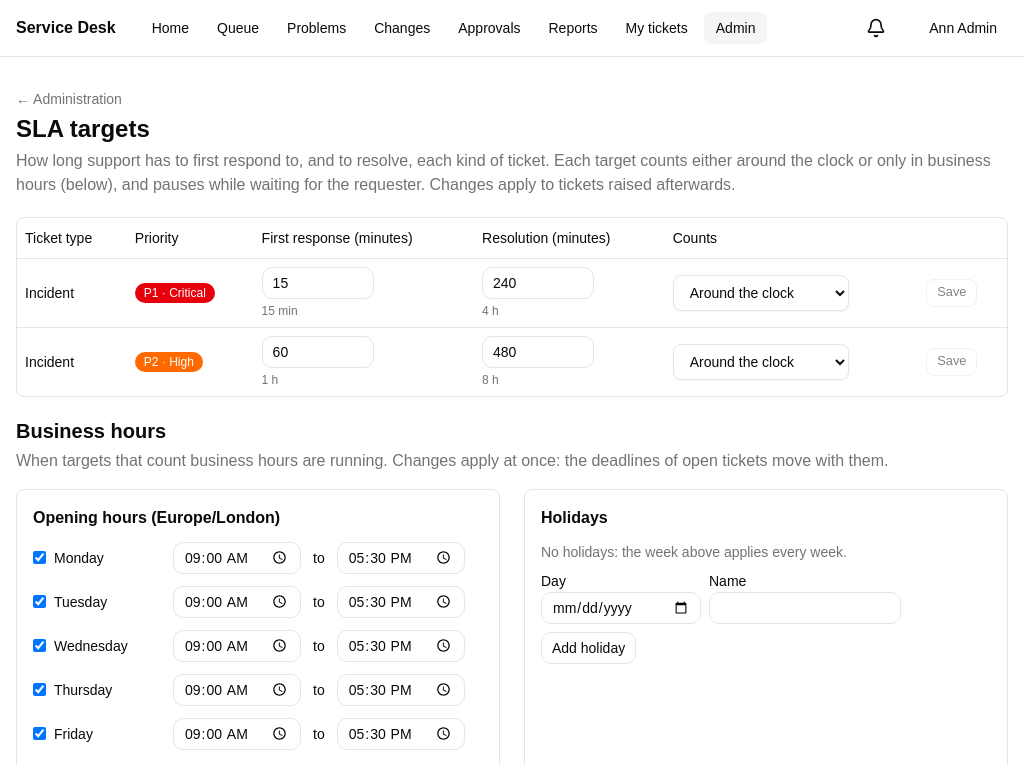
Test: SLA targets page › lists targets with readable durations and saves a change
This screenshot has width=1024, height=764.
Expected: the text "4 h" is shown, [482,304,499,318]
Clear the number field named "Incident P2 first response, in minutes" at {"x": 318, "y": 352}, box [262,336,374,368]
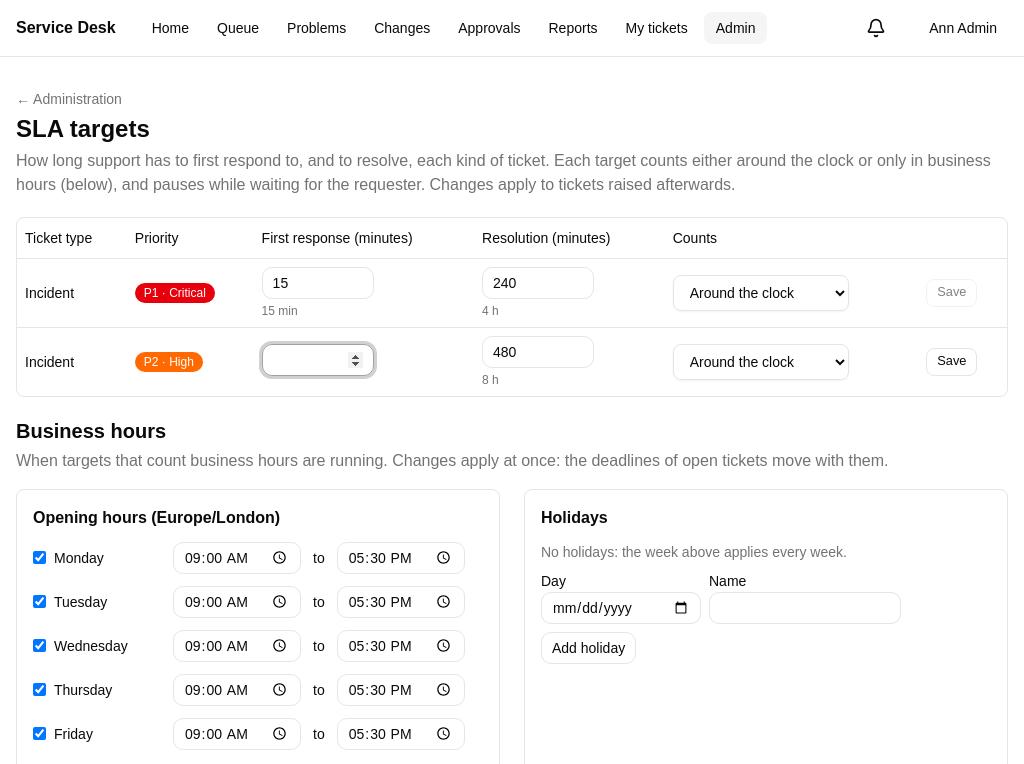
Type "30" into the number field named "Incident P2 first response, in minutes" at {"x": 318, "y": 360}, box [262,344,374,376]
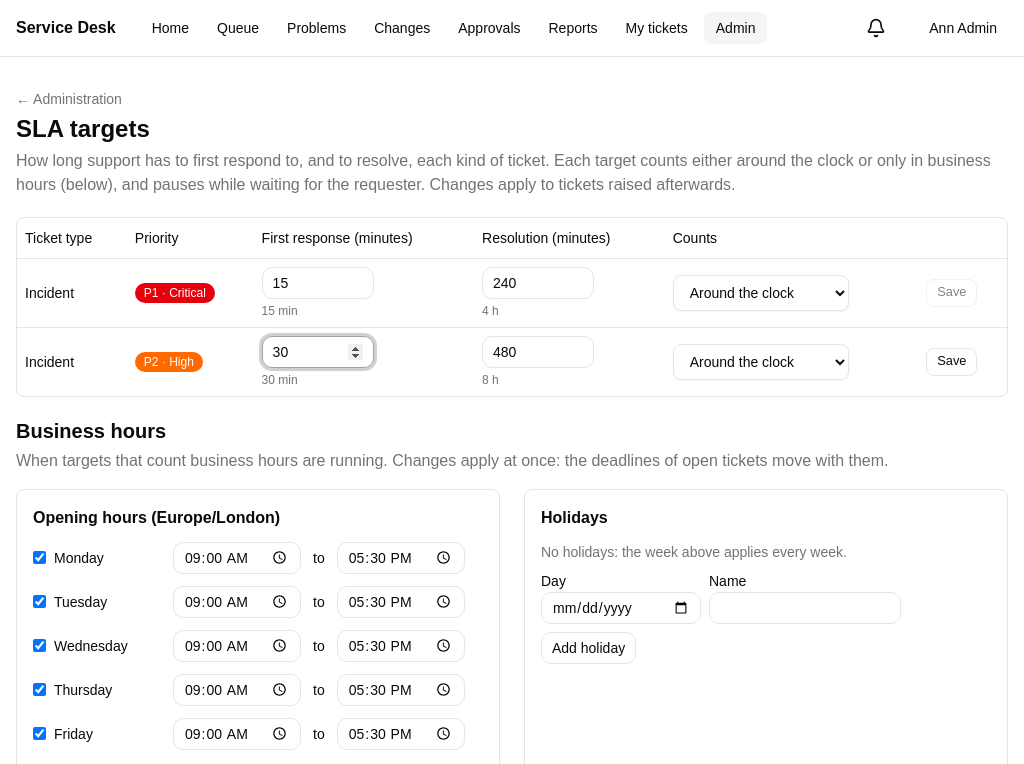
Click the button with aria-label "Save Incident P2" at {"x": 952, "y": 362}, box [926,348,978,376]
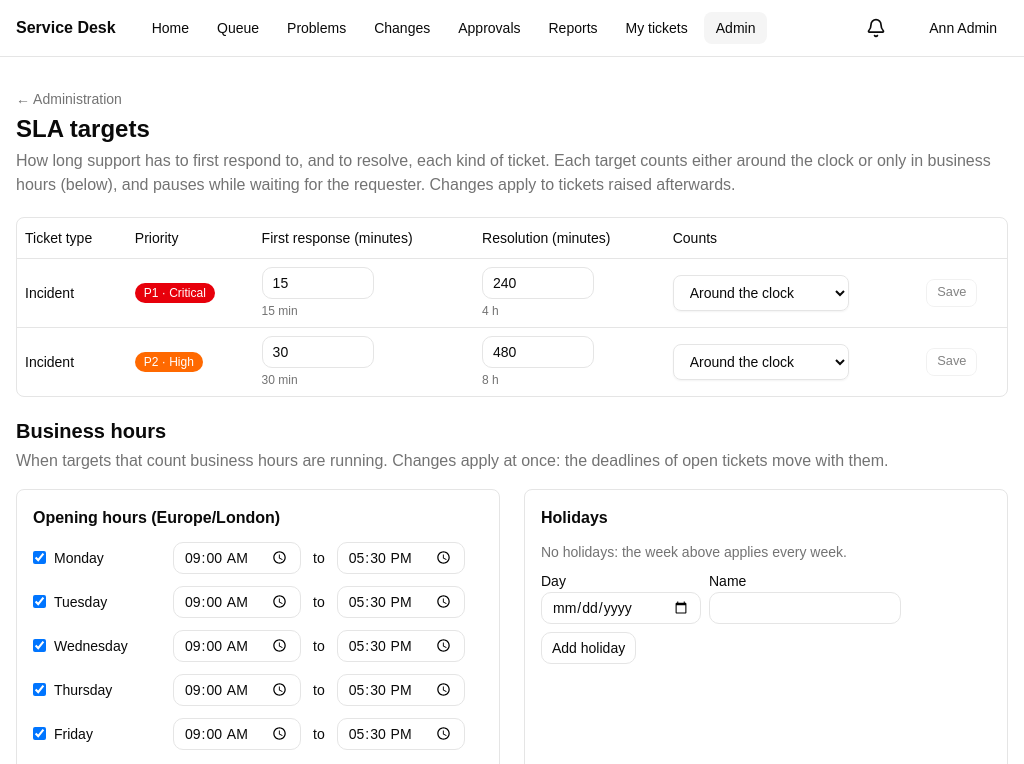
Expected: the text "30 min" is shown, [262,372,298,386]
Expected: the button with aria-label "Save Incident P2" is disabled, [926,348,978,376]
